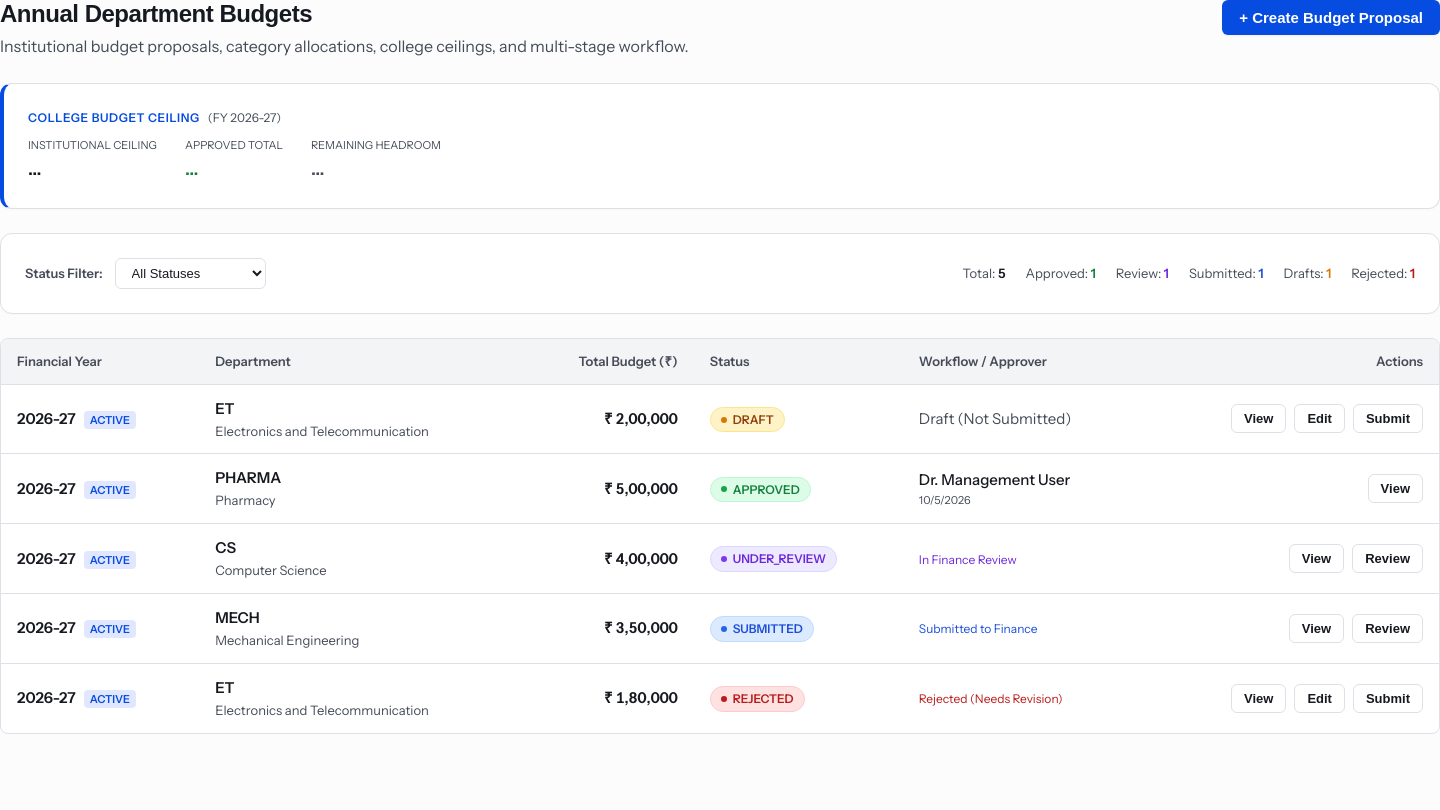
Budgets Module Frontend (Iteration 6: Budgets v2) › BudgetsPage Component › allows Finance to open review modal for SUBMITTED budget
Click the button "Review" in the row of "Computer Science" at (1388, 558), box [1352,544,1423,573]
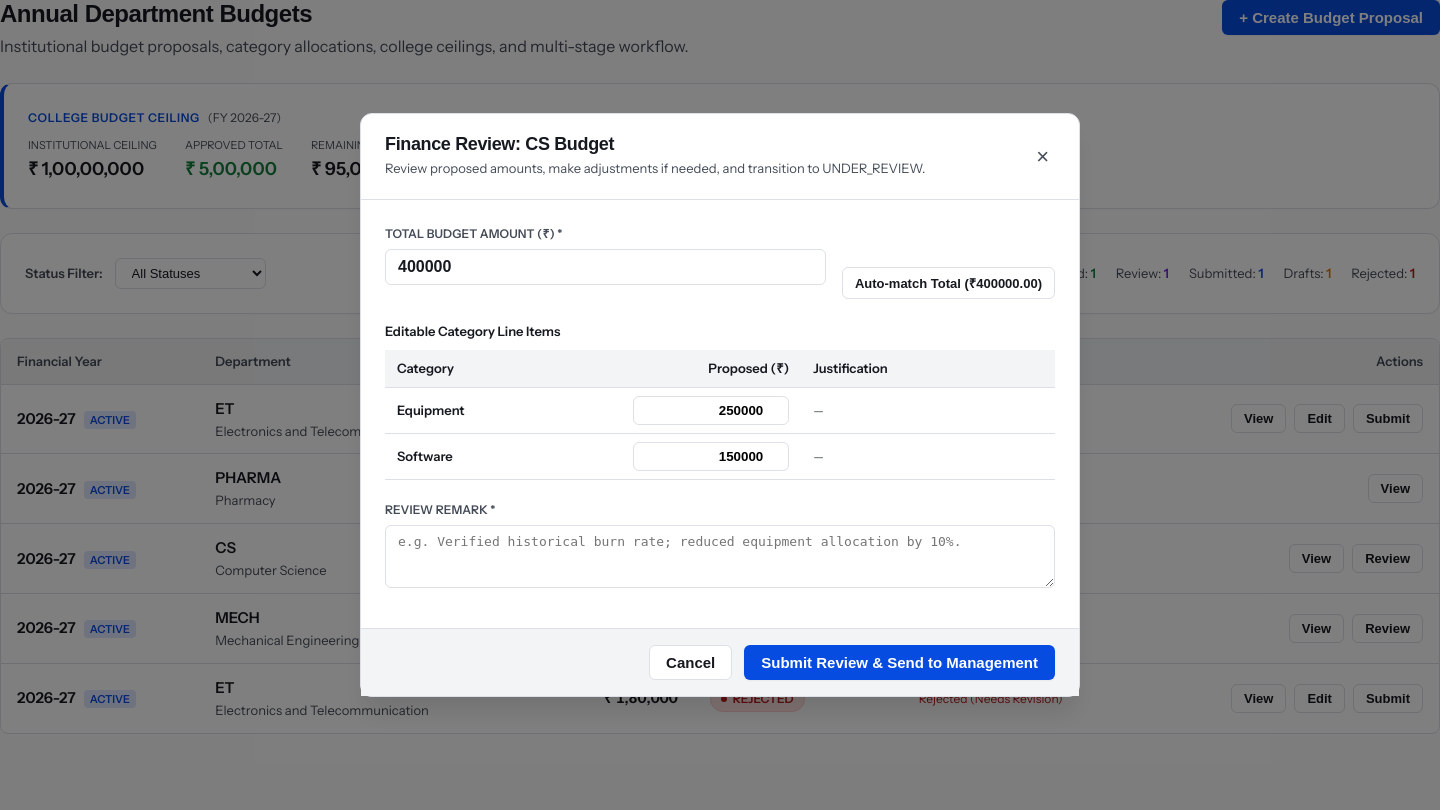
Now the heading "Finance Review: CS Budget" is shown, box [385,134,614,154]
Now the text "Review Remark *" is shown, box [385,502,496,517]
